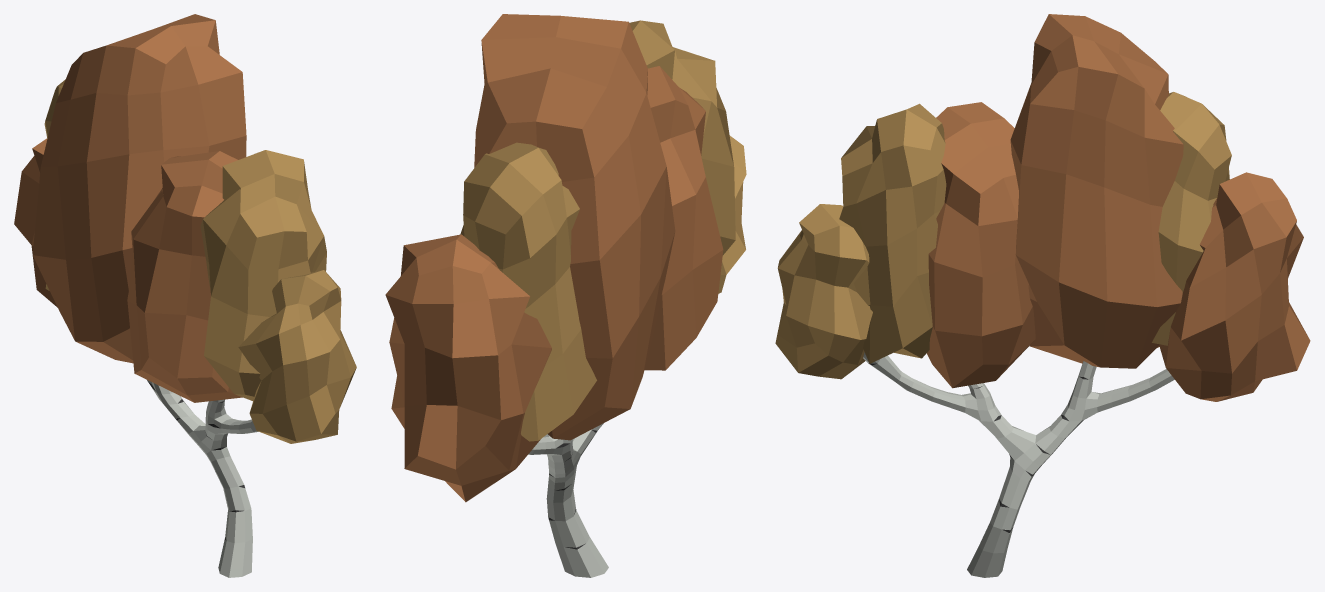
The model's file is BirchTree_Autumn_4-transformed.glb.
The picture shows the model from 3 angles, left to right: view 1: azimuth 30°, elevation 25°; view 2: azimuth 150°, elevation 25°; view 3: azimuth 270°, elevation 25°; orthographic projection. The views are drawn at different scales.
Parts seen in each view (by area): view 1: BirchTree_Autumn_4; view 2: BirchTree_Autumn_4; view 3: BirchTree_Autumn_4.
Part boxes in pixels (bbox=[...]): BirchTree_Autumn_4: bbox=[14, 14, 356, 577]; BirchTree_Autumn_4: bbox=[385, 14, 746, 577]; BirchTree_Autumn_4: bbox=[775, 14, 1310, 577].
Size of the model in its own units: 1.15 by 3.56 by 3.29.
